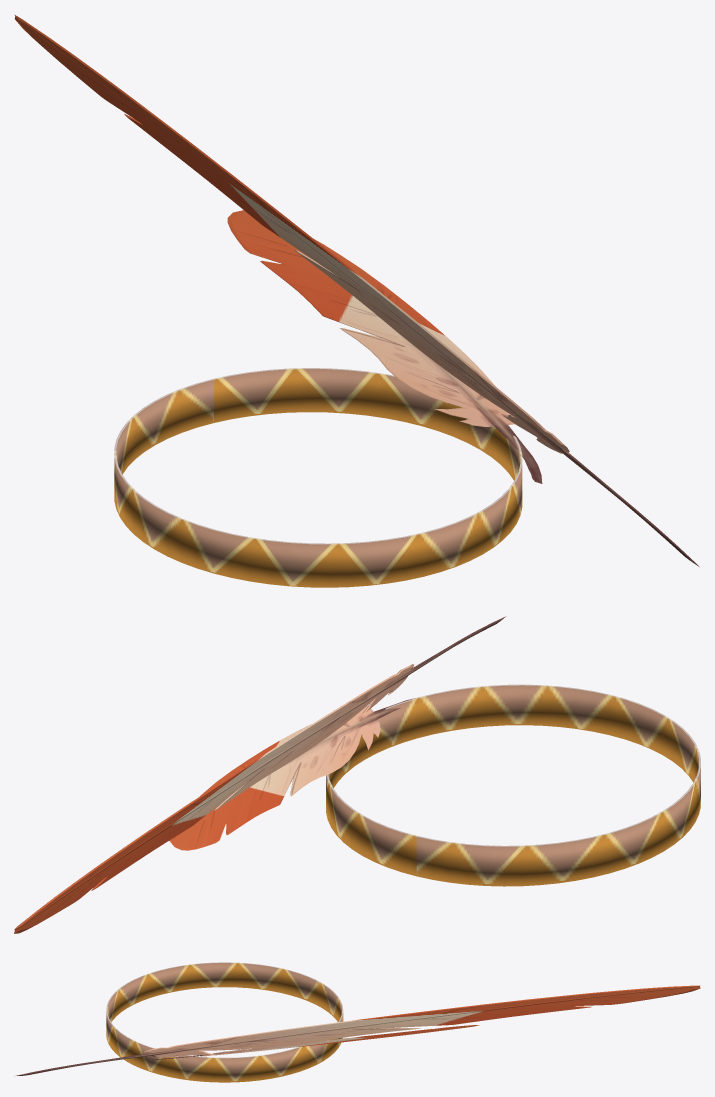
File: fasciaIndiano.fbx
3 views of the same model, one above another, from view 1: azimuth 30°, elevation 25°; view 2: azimuth 150°, elevation 25°; view 3: azimuth 270°, elevation 25° (orthographic). The views are drawn at different scales.
Visible parts, largest first — view 1: Fascia, piuma, piuma.001; view 2: Fascia, piuma, piuma.001; view 3: Fascia, piuma, piuma.001.
Boxes of the visible parts, x1=… form: Fascia: x1=114, y1=368, x2=522, y2=587; piuma: x1=14, y1=14, x2=699, y2=566; piuma.001: x1=227, y1=210, x2=542, y2=483; Fascia: x1=326, y1=684, x2=700, y2=886; piuma: x1=14, y1=616, x2=505, y2=933; piuma.001: x1=169, y1=698, x2=415, y2=850; Fascia: x1=106, y1=962, x2=343, y2=1082; piuma: x1=14, y1=985, x2=700, y2=1076; piuma.001: x1=148, y1=1025, x2=479, y2=1060.
Size of the model in its own units: 616 by 232 by 1764.
